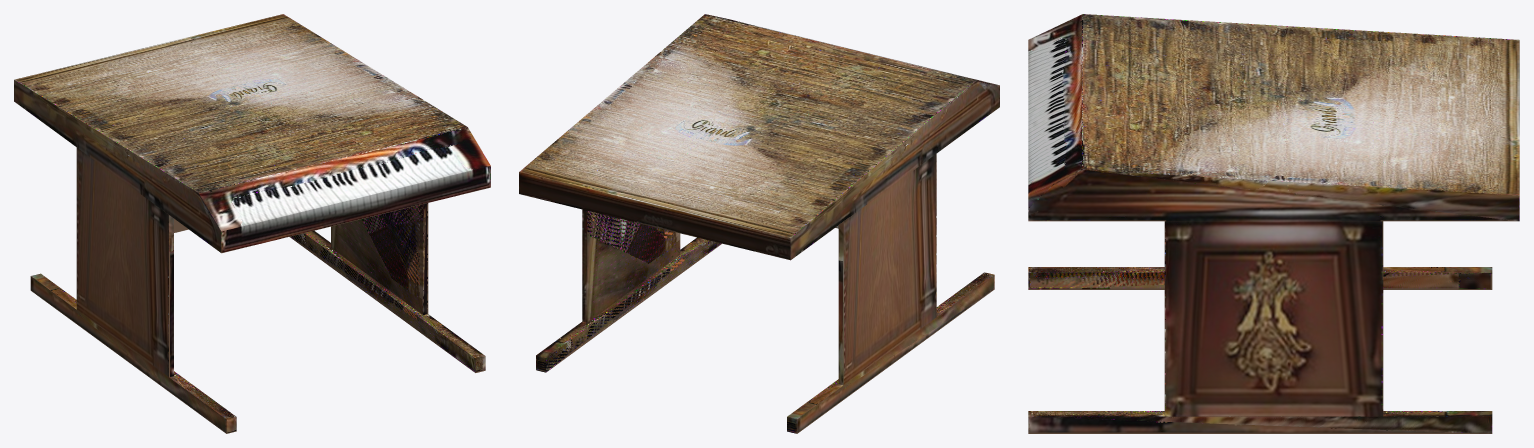
File: piano pianoforte forte-piano_11_21__14_42_02_textured.obj
3 views of the same model, side by side, from view 1: azimuth 30°, elevation 25°; view 2: azimuth 150°, elevation 25°; view 3: azimuth 270°, elevation 25° (orthographic). The views are drawn at different scales.
Size of the model in its own units: 0.6404 by 0.5123 by 0.8539.
Materials: 1 (1 with a texture image).
